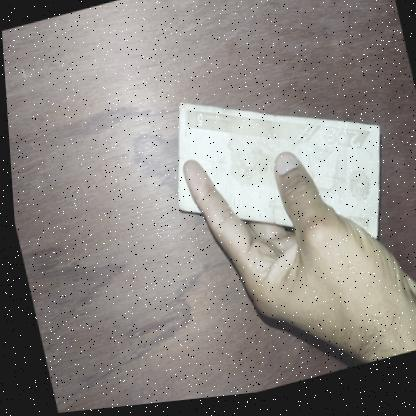five-back-vef: (153, 59, 401, 293)
